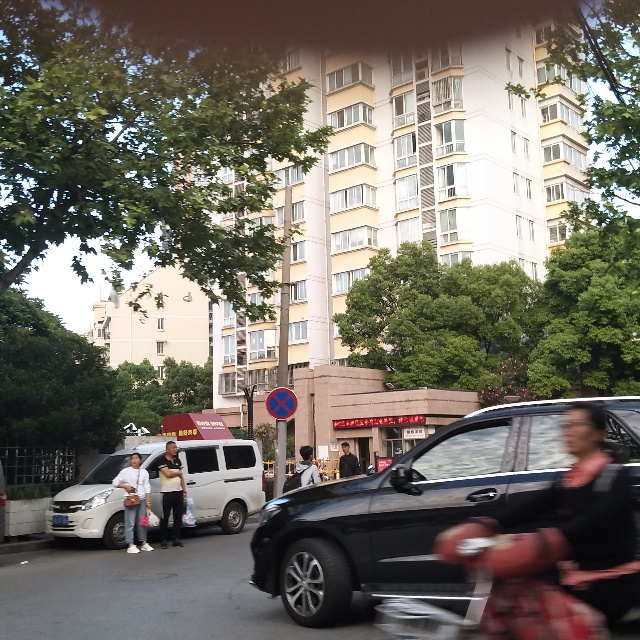stop: (267, 389, 297, 418)
